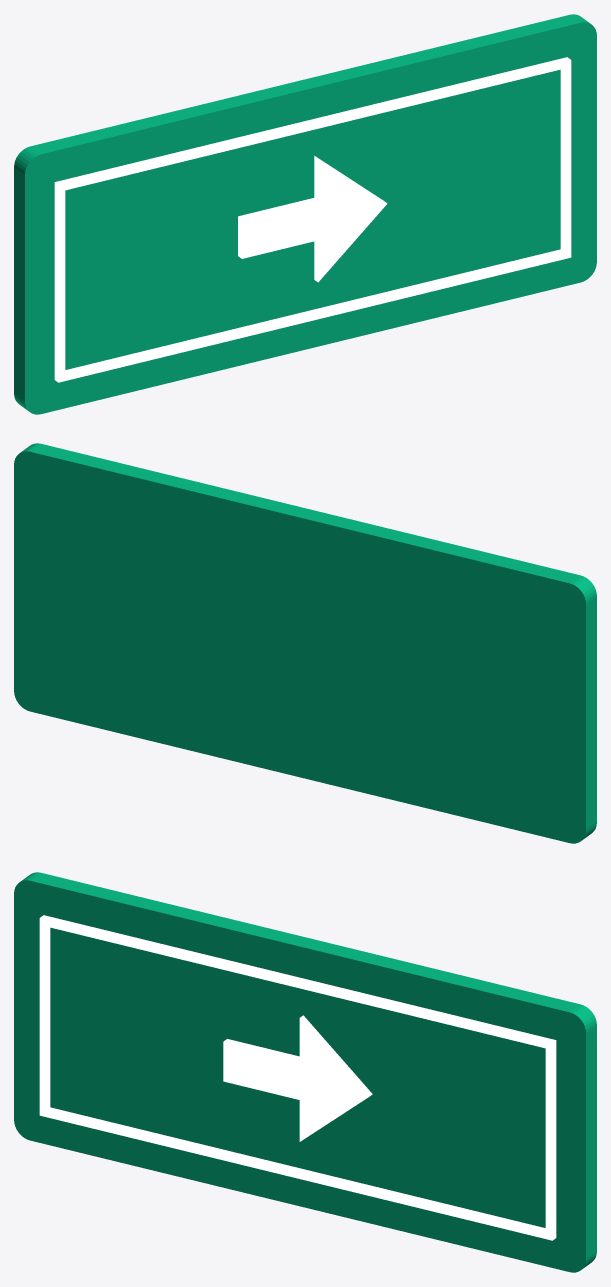
3 views of the same model, one above another, from view 1: azimuth 30°, elevation 25°; view 2: azimuth 150°, elevation 25°; view 3: azimuth 330°, elevation 25° (orthographic).
Visible parts, largest first — view 1: plate, g0, bd0, bd1, bd2, bd3; view 2: plate; view 3: plate, g0, bd0, bd1, bd3, bd2.
Boxes of the visible parts, x1,y1,x2,y2 form: plate: [14, 14, 596, 414]; g0: [238, 156, 387, 282]; bd0: [54, 57, 571, 191]; bd1: [54, 249, 571, 382]; bd2: [54, 183, 65, 375]; bd3: [560, 67, 571, 251]; plate: [14, 443, 596, 843]; plate: [14, 872, 596, 1272]; g0: [223, 1015, 372, 1141]; bd0: [39, 915, 556, 1049]; bd1: [39, 1107, 556, 1240]; bd3: [545, 1047, 556, 1233]; bd2: [39, 925, 50, 1109].
Bounding box in the file's own units: 0.424 × 0.184 × 0.019.
